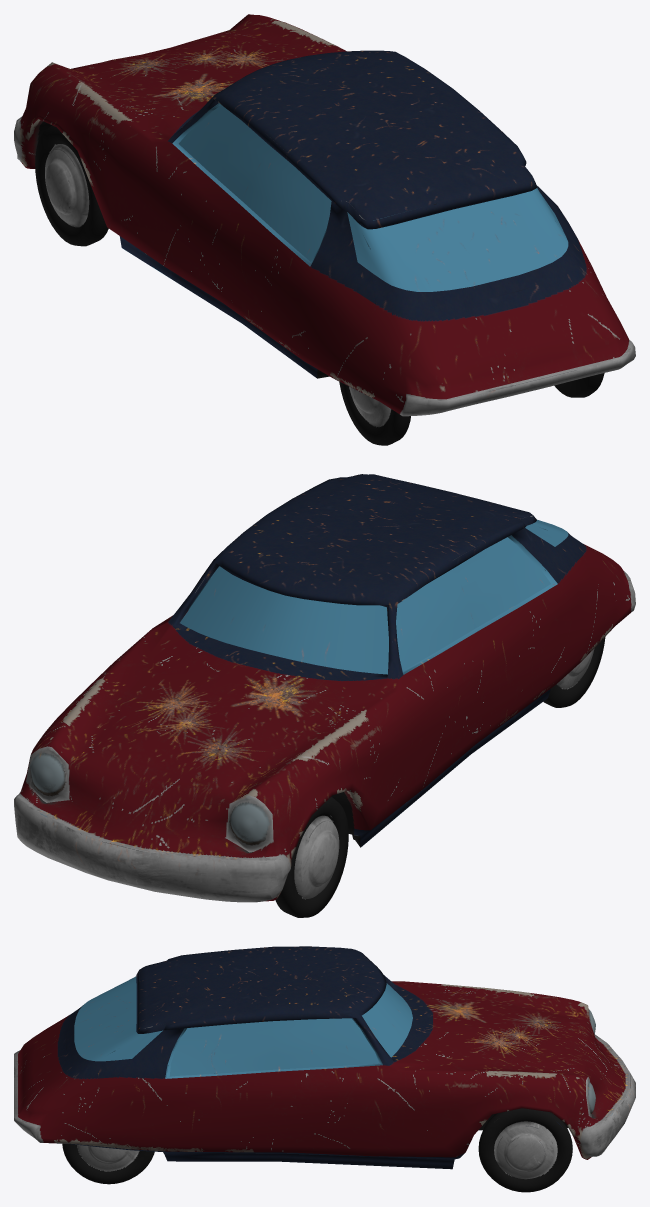
3 renders of one model, top to bottom at view 1: azimuth 30°, elevation 25°; view 2: azimuth 150°, elevation 25°; view 3: azimuth 270°, elevation 25°, orthographic. The views are drawn at different scales.
Visible parts, largest first — view 1: DS.003, DS.000; view 2: DS.003, DS.000; view 3: DS.003, DS.000.
Boxes of the visible parts, left/top/right/bottom form: DS.003: left=14, top=14, right=635, bottom=445; DS.000: left=179, top=105, right=568, bottom=291; DS.003: left=14, top=474, right=635, bottom=917; DS.000: left=180, top=519, right=568, bottom=674; DS.003: left=14, top=946, right=635, bottom=1192; DS.000: left=74, top=976, right=412, bottom=1076.
Bounding box in the file's own units: 166 × 133 × 435.
Materials: 2 (2 with a texture image).
